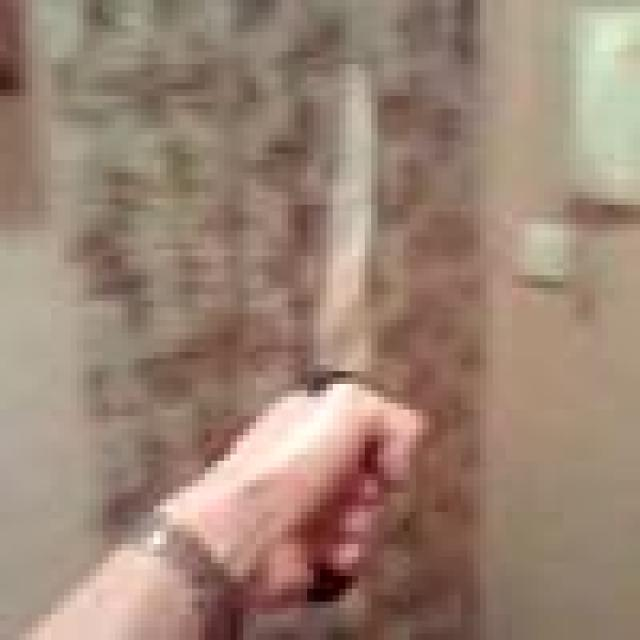knife: (316, 65, 372, 392)
